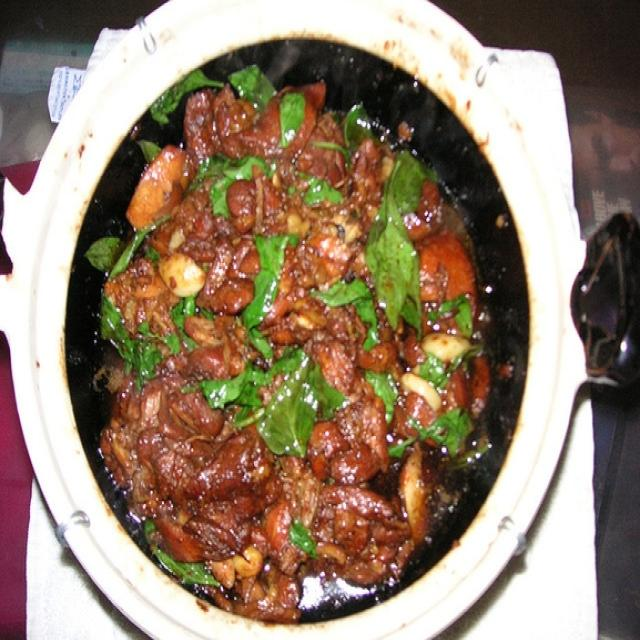鸡肉料理 含炸鸡: (25, 21, 588, 618)
